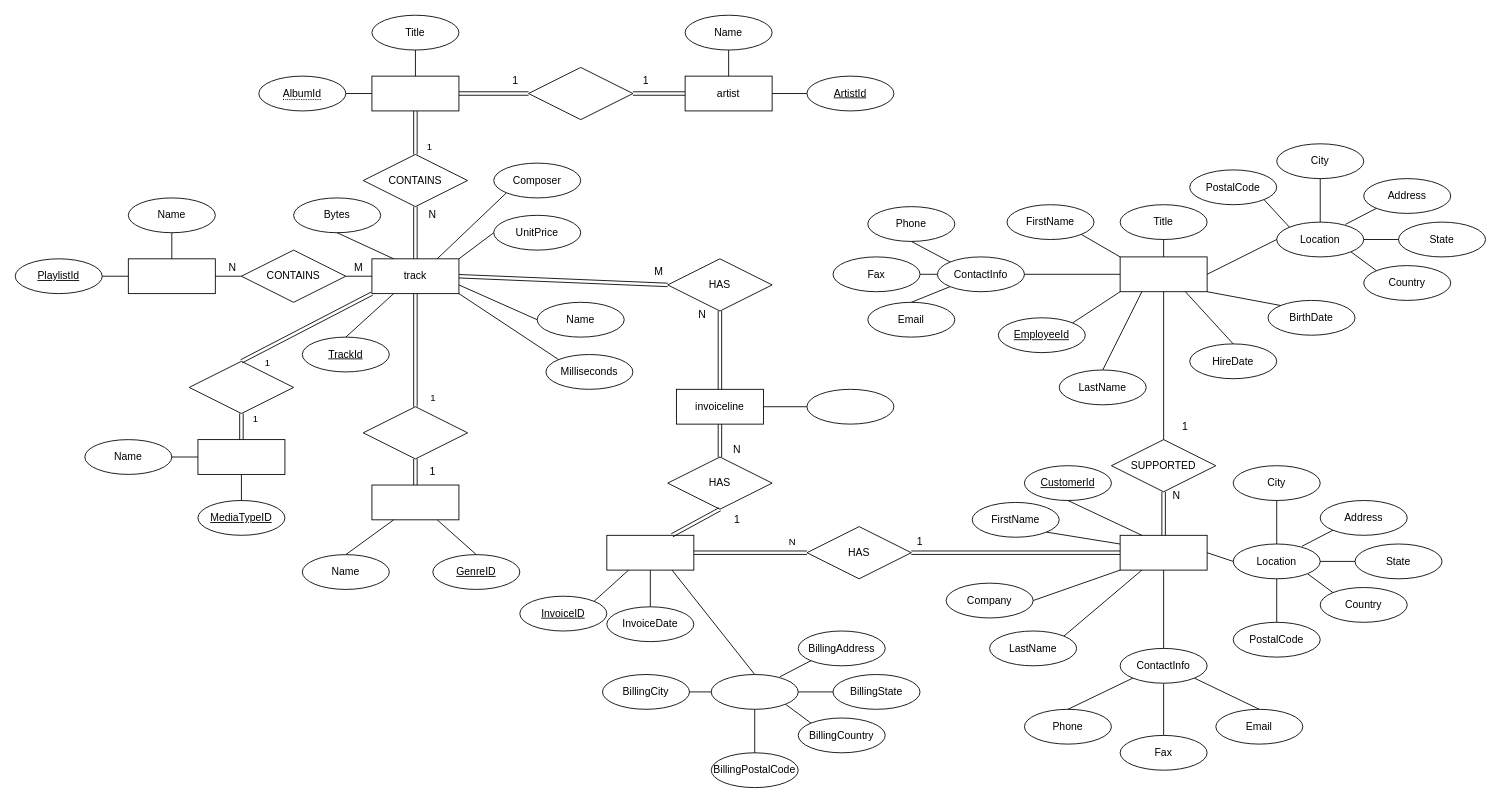
This 1501x803 diagram has some shape labels left out. Each missing label, with the box of its shape:
album: (371, 75, 459, 111)
BillingLocation: (710, 674, 798, 709)
COMES_AS: (188, 360, 294, 414)
customer: (1119, 534, 1207, 570)
employee: (1119, 256, 1207, 292)
genre: (371, 484, 459, 520)
invoice: (606, 534, 694, 570)
InvoiceLineID: (806, 388, 894, 424)
MADE_BY: (528, 67, 633, 120)
mediatype: (197, 439, 285, 474)
playlist: (127, 258, 215, 294)
SOUNDS_LIKE: (362, 406, 468, 459)
